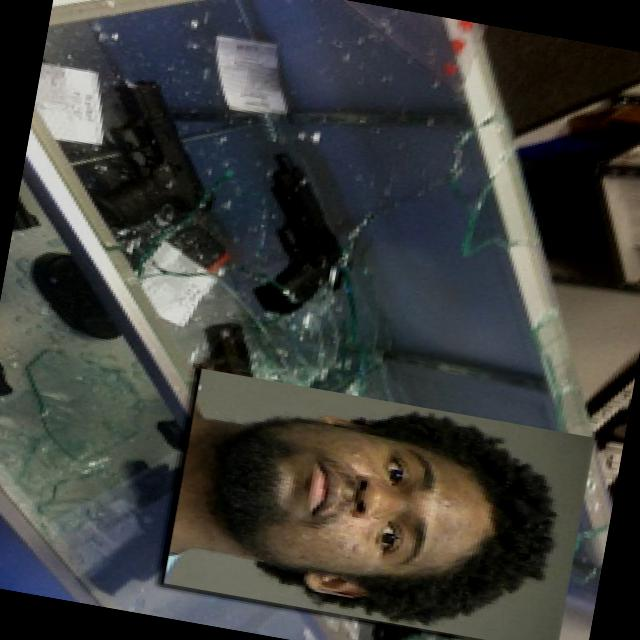handgun: (236, 140, 386, 328), (80, 66, 232, 242)
